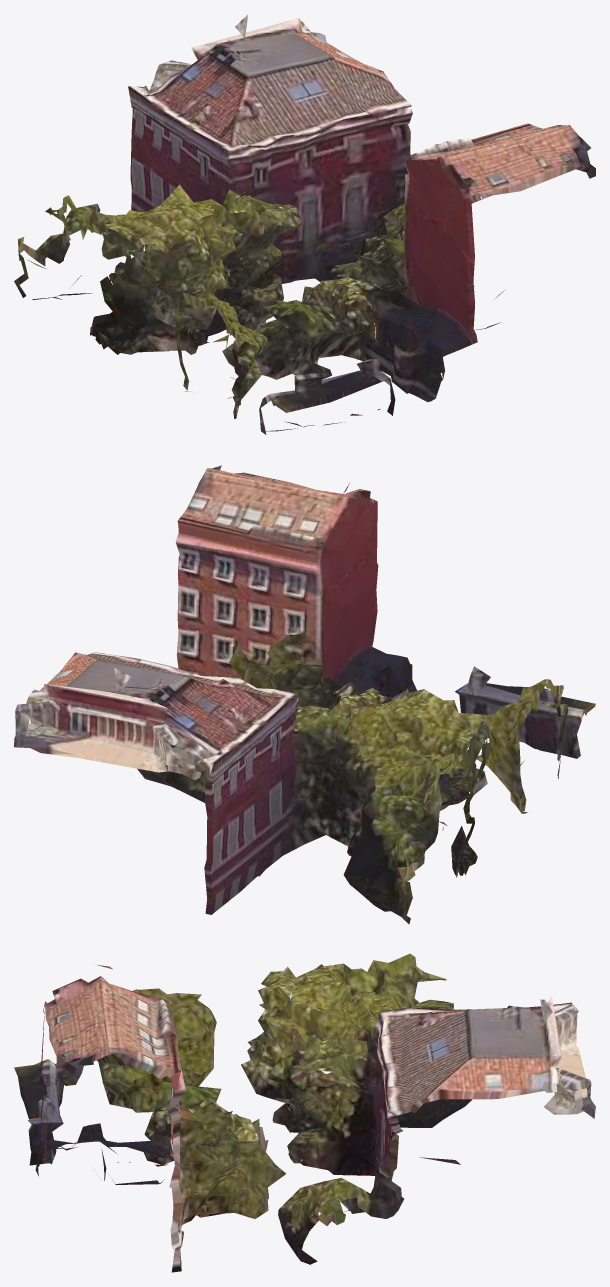
The picture shows the model from 3 angles, top to bottom: view 1: azimuth 30°, elevation 25°; view 2: azimuth 150°, elevation 25°; view 3: azimuth 270°, elevation 25°; orthographic projection. The views are drawn at different scales.
Visible parts, largest first — view 1: Mesh_0; view 2: Mesh_0; view 3: Mesh_0.
Boxes of the visible parts, x1,y1,x2,y2 form: Mesh_0: [14, 14, 595, 434]; Mesh_0: [14, 465, 595, 924]; Mesh_0: [14, 953, 595, 1272].
Size of the model in its own units: 33.09 by 19.63 by 41.34.
2 materials, 2 textured.
